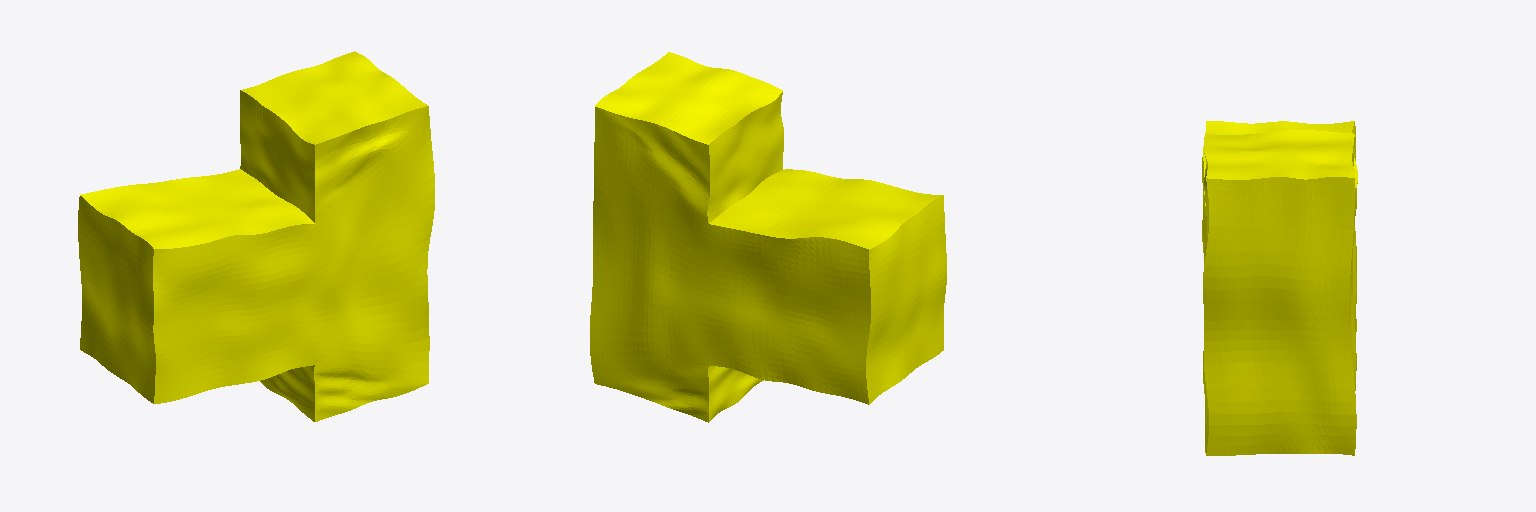
File: reel.obj
3 renders of one model, left to right at view 1: azimuth 30°, elevation 25°; view 2: azimuth 150°, elevation 25°; view 3: azimuth 270°, elevation 25°, orthographic.
Parts seen in each view (by area): view 1: reel; view 2: reel; view 3: reel.
Boxes of the visible parts, x1,y1,x2,y2 form: reel: [78, 51, 434, 421]; reel: [590, 52, 946, 422]; reel: [1202, 121, 1357, 455].
Size of the model in its own units: 4.4 by 4.32 by 2.1.